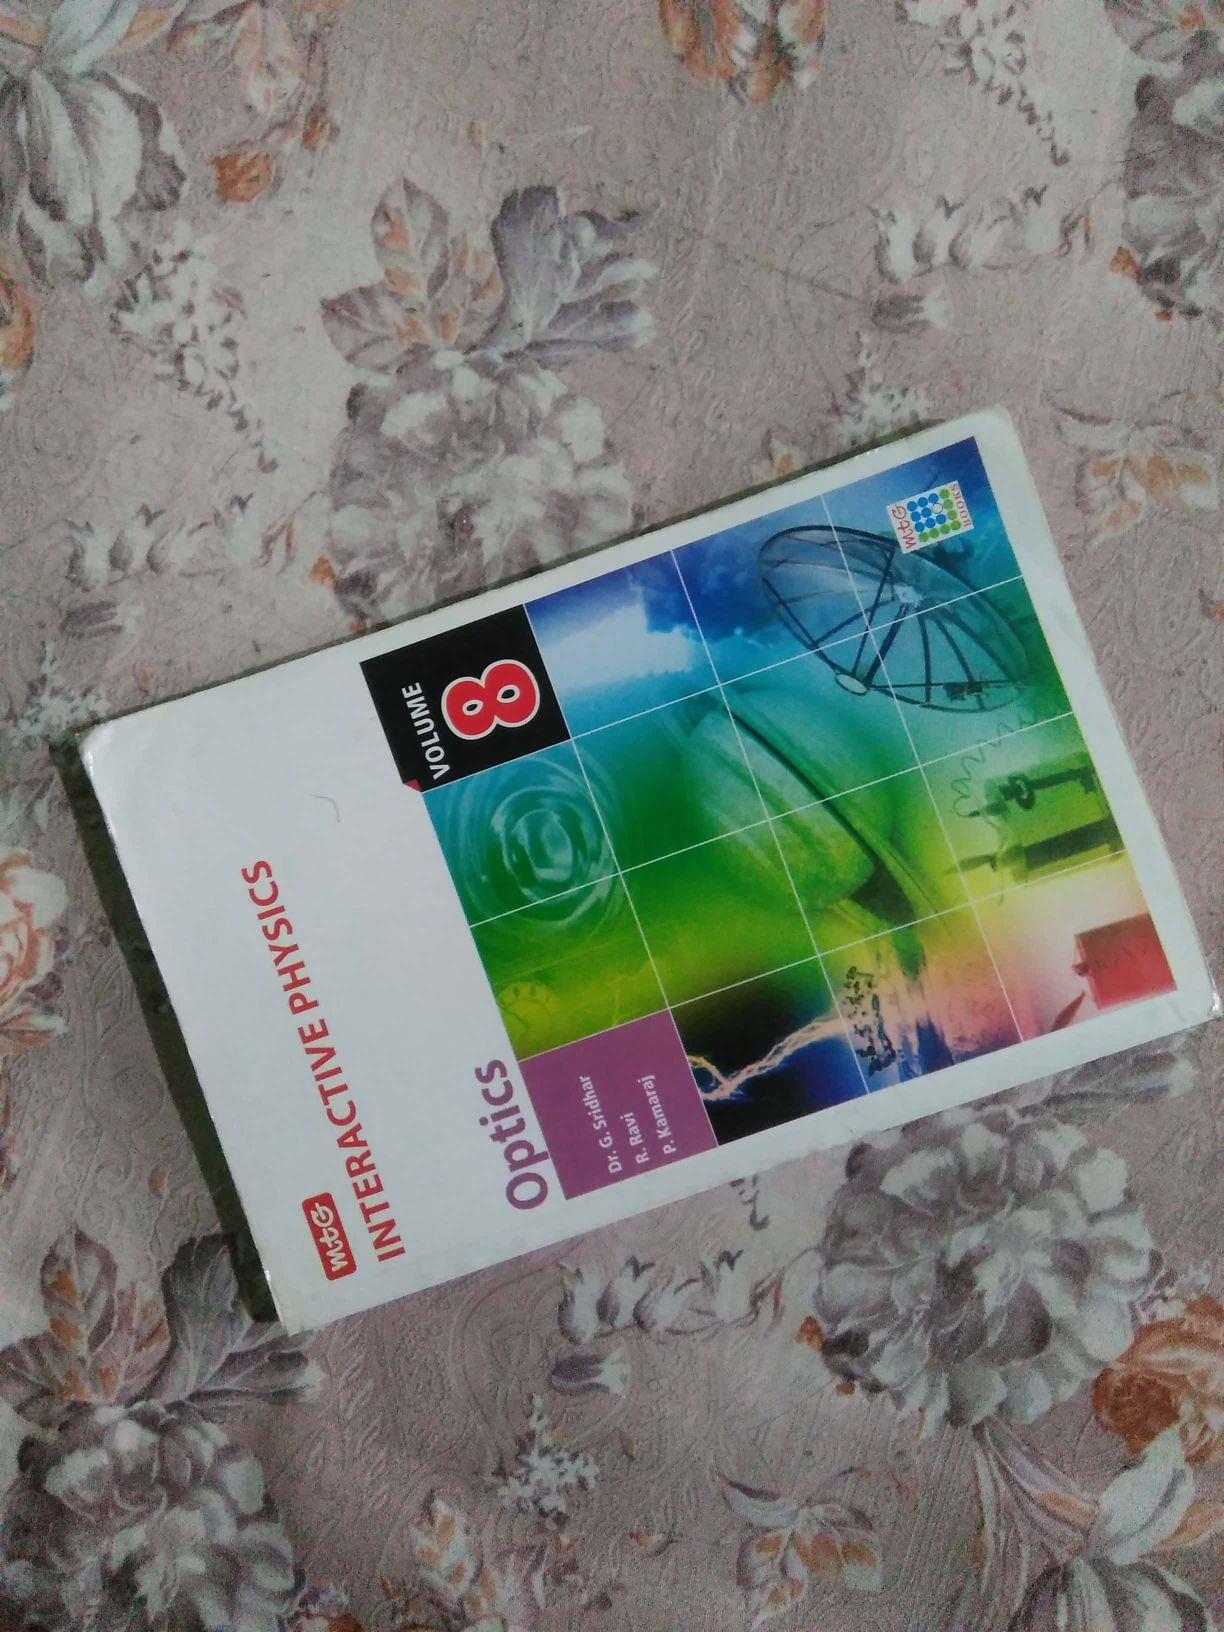optics: (93, 482, 1221, 1317)
